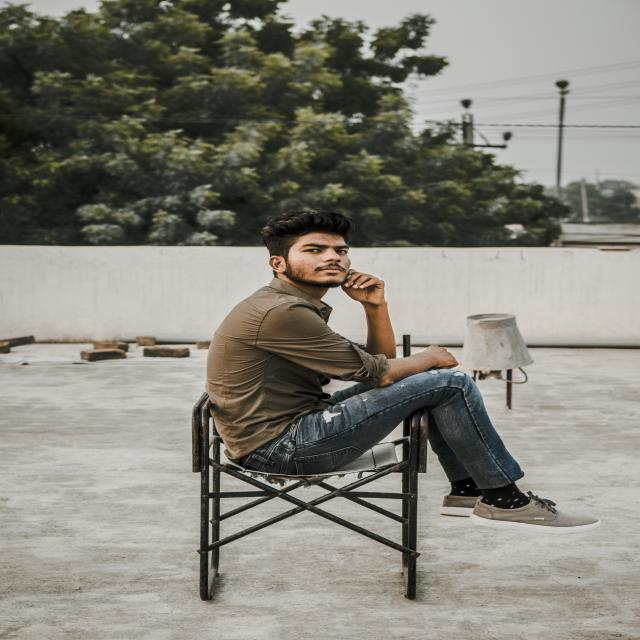nonfall: (211, 211, 596, 539)
